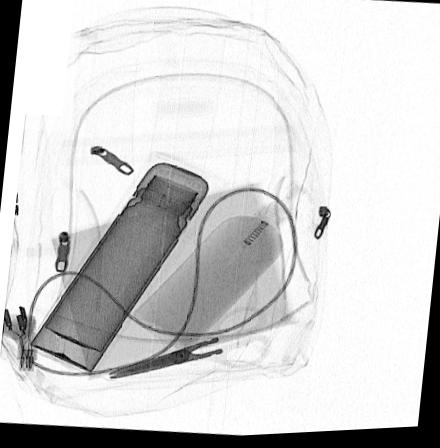Scissors: (108, 311, 269, 380)
